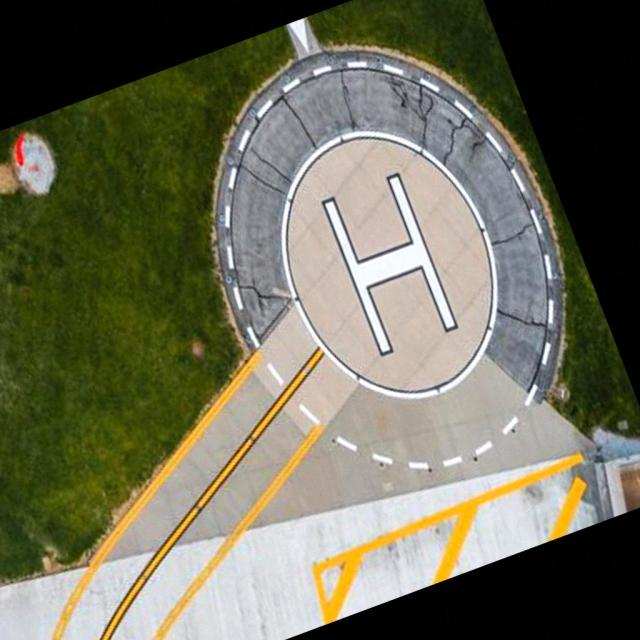helipad: (277, 124, 502, 404)
